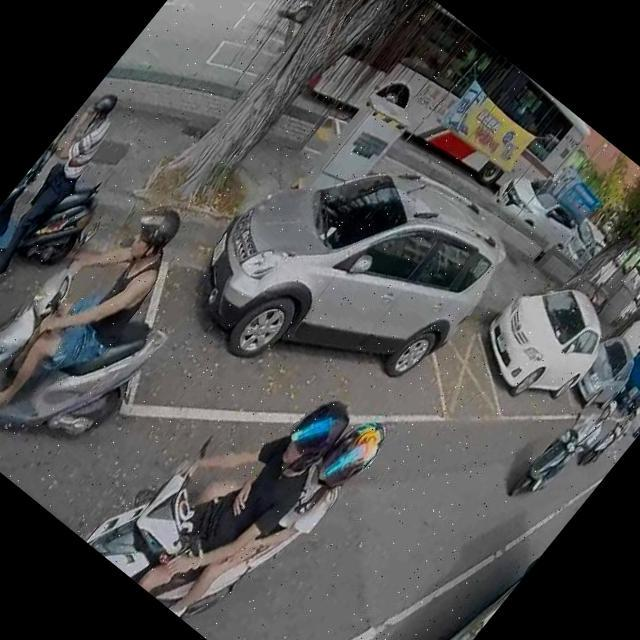person: (103, 343, 370, 633), (131, 364, 396, 640), (0, 173, 208, 453), (0, 87, 139, 304), (520, 387, 620, 500), (593, 404, 640, 460)
